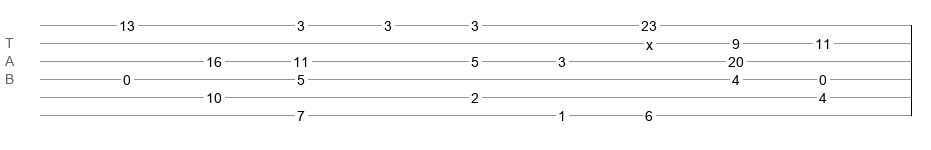0: (123, 72, 131, 82), (819, 72, 827, 82)
1: (558, 108, 566, 118)
10: (206, 90, 222, 100)
11: (293, 54, 309, 64), (815, 36, 831, 46)
13: (119, 18, 135, 28)
16: (206, 54, 222, 64)
2: (471, 90, 479, 100)
20: (728, 54, 744, 64)
23: (641, 18, 657, 28)
3: (297, 18, 305, 28), (384, 18, 392, 28), (471, 18, 479, 28), (558, 54, 566, 64)
4: (732, 72, 740, 82), (819, 90, 827, 100)
5: (297, 72, 305, 82), (471, 54, 479, 64)
6: (645, 108, 653, 118)
7: (297, 108, 305, 118)
9: (732, 36, 740, 46)
x: (646, 37, 653, 45)
